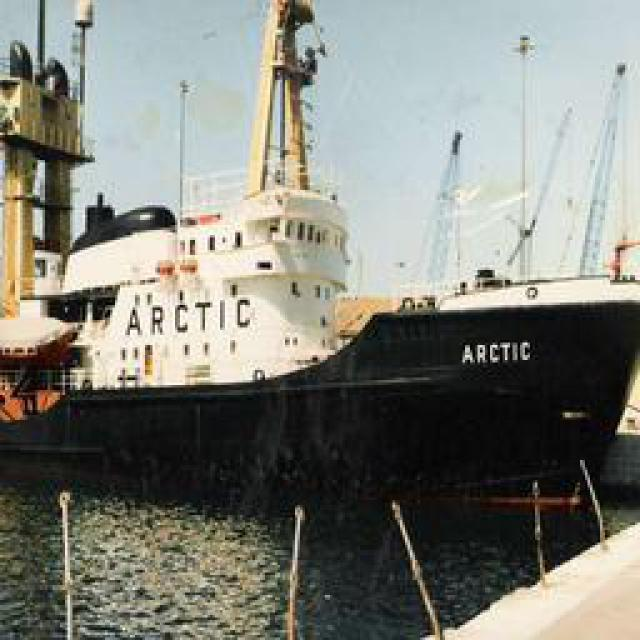Ship: (41, 2, 364, 405)
